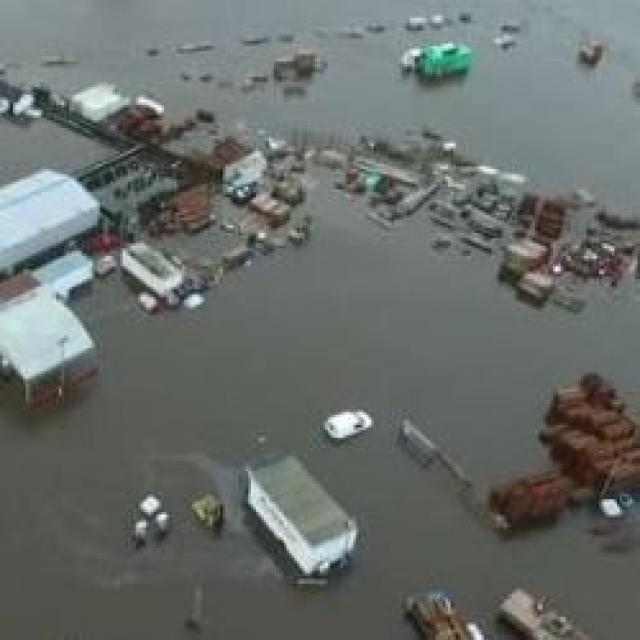flood: (0, 170, 640, 640), (0, 0, 640, 214), (0, 118, 115, 186)
house: (246, 451, 359, 578), (1, 275, 101, 408), (402, 40, 477, 90)
